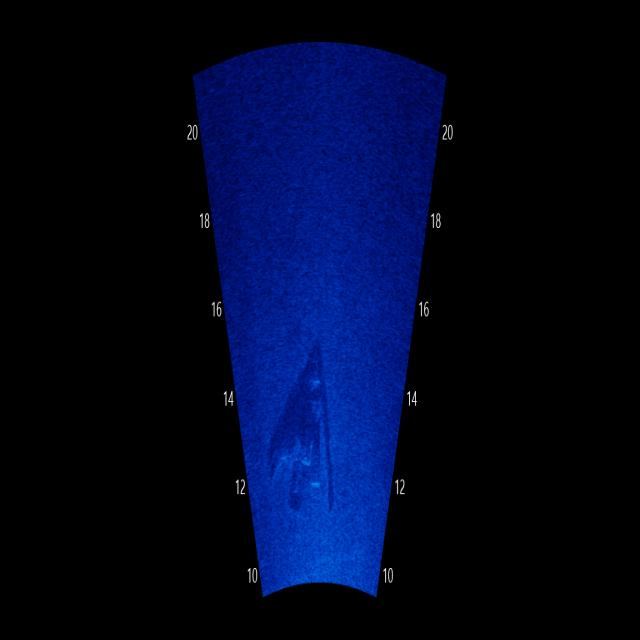triangle: (263, 353, 343, 534)
